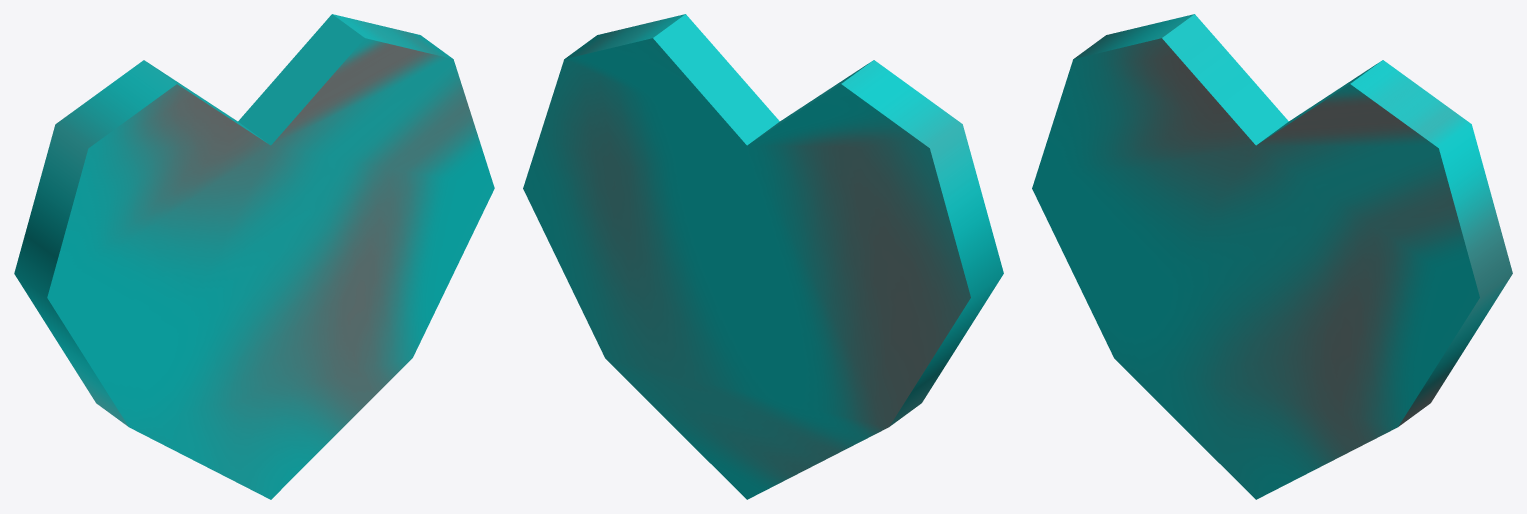
File: heart_shell.obj
The picture shows the model from 3 angles, left to right: view 1: azimuth 30°, elevation 25°; view 2: azimuth 150°, elevation 25°; view 3: azimuth 330°, elevation 25°; orthographic projection.
Size of the model in its own units: 18.62 by 17.44 by 2.39.
1 material, 1 textured.
